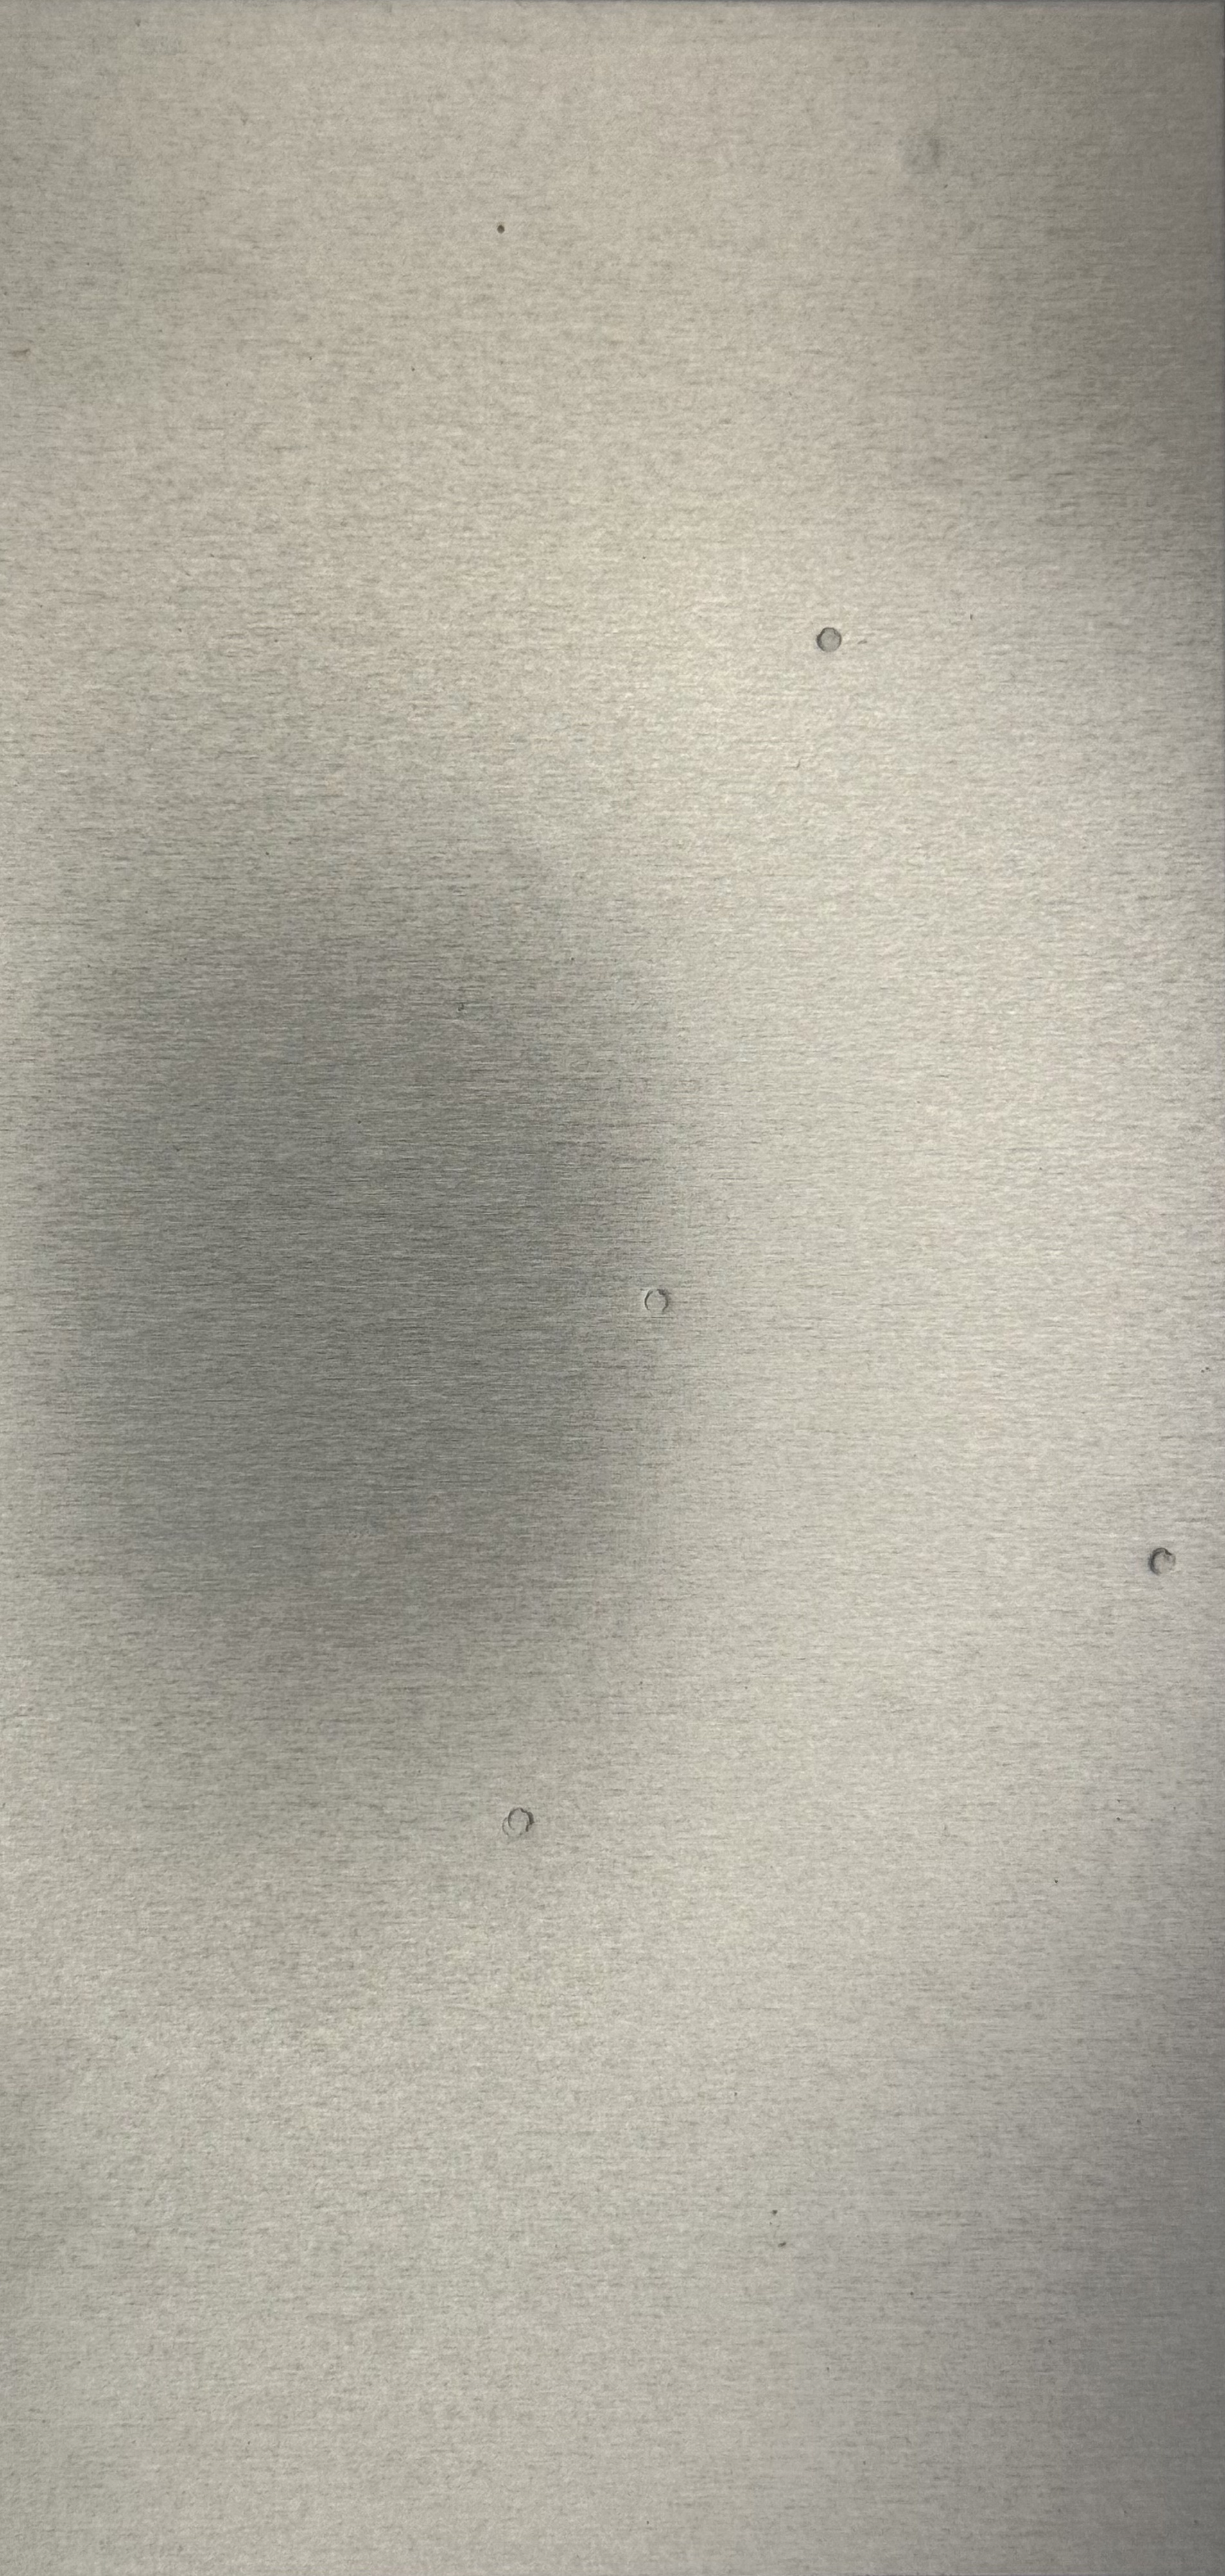Delle: (874, 112, 964, 195), (627, 1275, 690, 1336), (805, 614, 857, 670), (493, 1802, 548, 1847), (1138, 1538, 1187, 1585)
